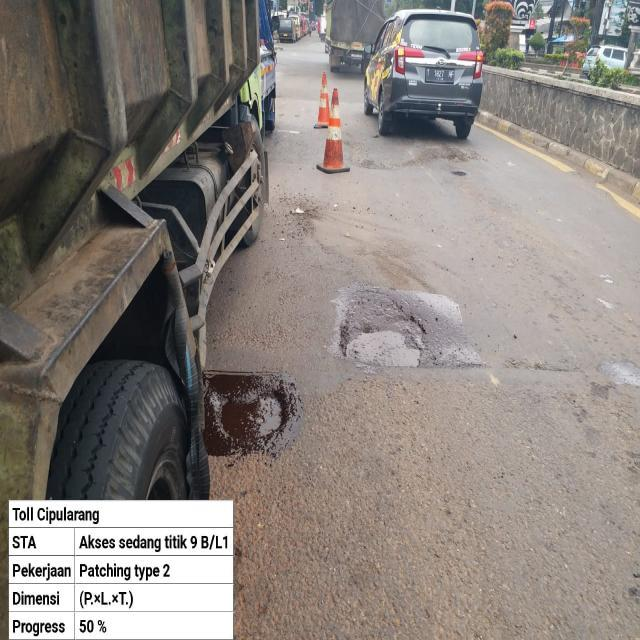Buraco: (335, 288, 430, 370), (204, 378, 298, 448), (449, 170, 469, 178)
